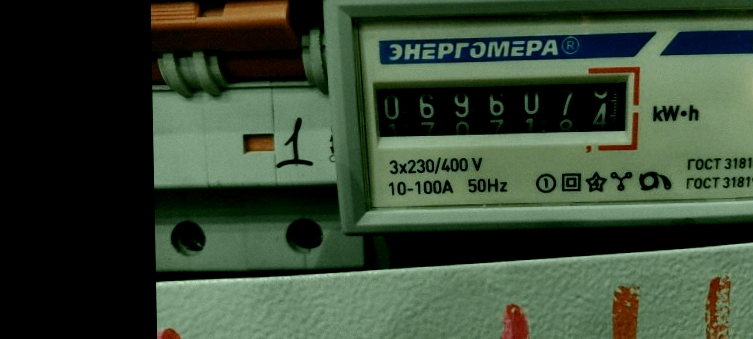0: (381, 90, 402, 121), (522, 85, 542, 115)
4: (589, 99, 609, 128)
6: (415, 89, 438, 119), (487, 87, 507, 116)
7: (557, 85, 575, 115)
9: (452, 89, 471, 118)
screen: (357, 59, 643, 154)
